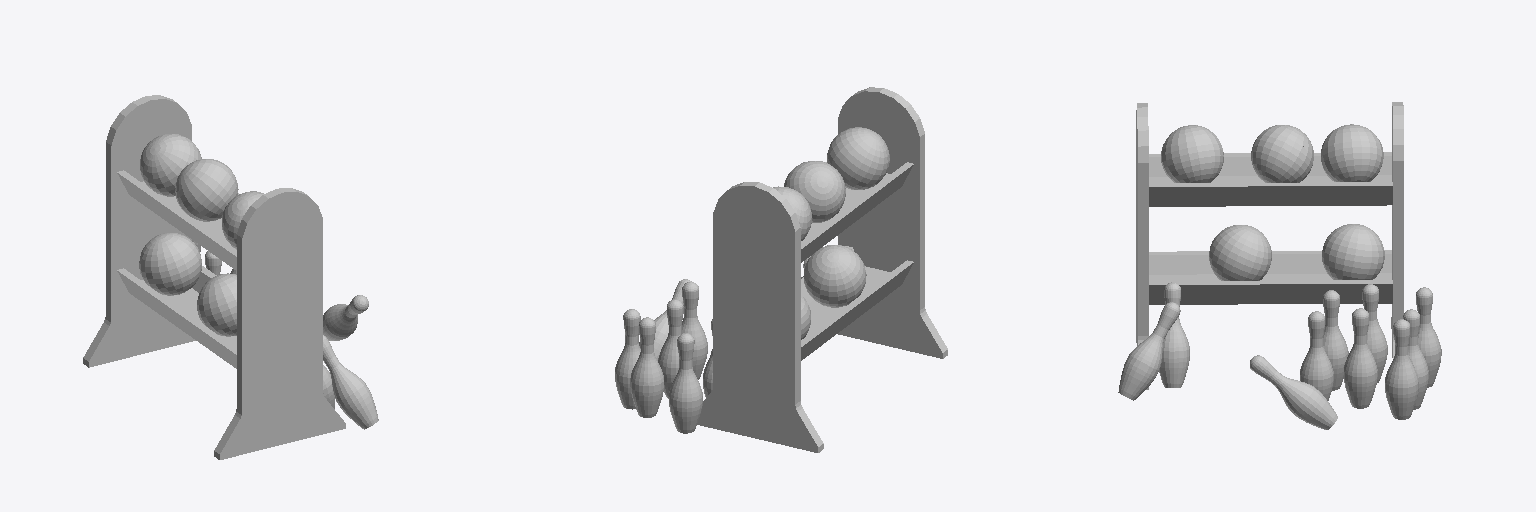
File: Rack.obj
3 renders of one model, left to right at view 1: azimuth 30°, elevation 25°; view 2: azimuth 150°, elevation 25°; view 3: azimuth 270°, elevation 25°, orthographic.
Visible parts, largest first — view 1: BowlingBallRack, BowlingBall5, BowlingBall2, BowlingBall3, BowlingPin5, BowlingBall4, BowlingPin1, BowlingBall1; view 2: BowlingBallRack, BowlingBall4, BowlingBall1, BowlingBall2, BowlingPin9, BowlingPin10, BowlingPin3, BowlingPin2, BowlingPin4, BowlingBall3, BowlingPin1; view 3: BowlingBallRack, BowlingBall2, BowlingBall1, BowlingBall3, BowlingBall4, BowlingBall5, BowlingPin5, BowlingPin1, BowlingPin4, BowlingPin3, BowlingPin7, BowlingPin2 (+4 smaller).
Part boxes in pixels (x1,y1,x2,y2): BowlingBallRack: (83, 95, 345, 459); BowlingBall5: (139, 233, 201, 295); BowlingBall2: (175, 159, 238, 221); BowlingBall3: (140, 134, 201, 196); BowlingPin5: (323, 335, 378, 429); BowlingBall4: (197, 273, 236, 336); BowlingPin1: (323, 295, 368, 340); BowlingBall1: (222, 191, 263, 249); BowlingBallRack: (697, 87, 947, 452); BowlingBall4: (804, 245, 866, 307); BowlingBall1: (827, 127, 889, 189); BowlingBall2: (784, 161, 845, 222); BowlingPin9: (669, 333, 702, 433); BowlingPin10: (630, 317, 663, 417); BowlingPin3: (615, 309, 640, 409); BowlingPin2: (682, 282, 707, 379); BowlingPin4: (658, 299, 683, 398); BowlingBall3: (773, 186, 811, 240); BowlingPin1: (639, 279, 691, 359); BowlingBallRack: (1136, 102, 1403, 389); BowlingBall2: (1251, 125, 1313, 182); BowlingBall1: (1161, 125, 1223, 182); BowlingBall3: (1321, 124, 1383, 181); BowlingBall4: (1209, 225, 1271, 280); BowlingBall5: (1322, 224, 1384, 279); BowlingPin5: (1118, 302, 1180, 400); BowlingPin1: (1250, 355, 1337, 429); BowlingPin4: (1344, 308, 1377, 408); BowlingPin3: (1385, 319, 1418, 419); BowlingPin7: (1159, 282, 1189, 387); BowlingPin2: (1300, 311, 1333, 400).
Size of the model in its own units: 3.77 by 4.08 by 4.72.